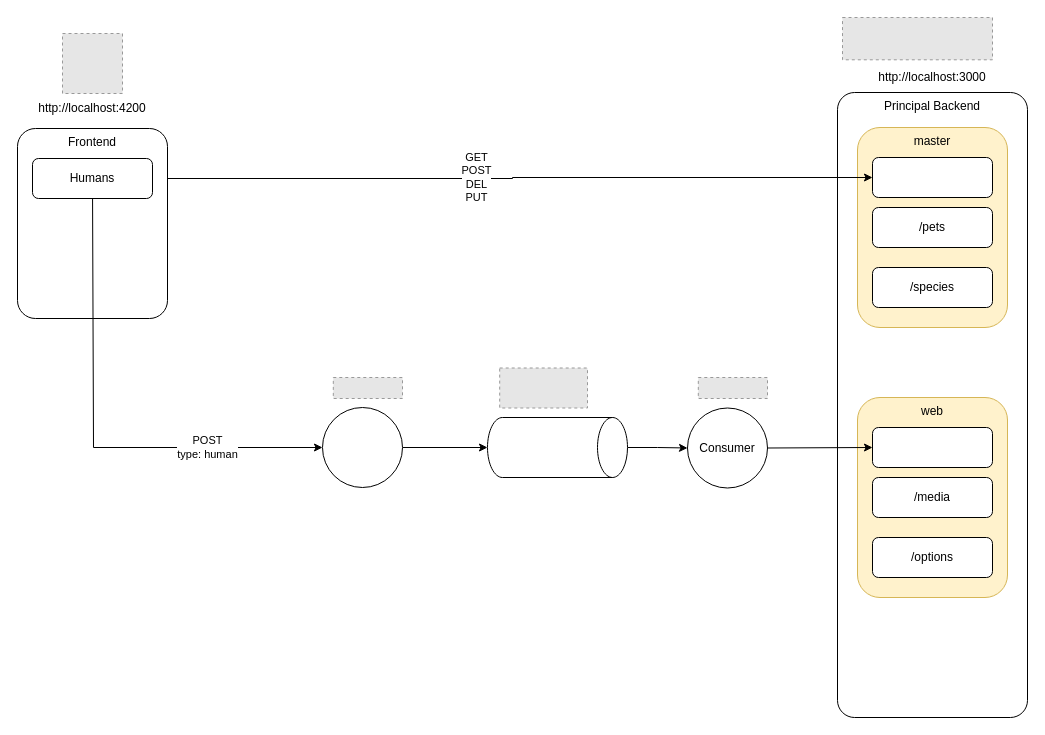
Image size: 1045x735. Some labels were removed from this diagram. Grey dashed boxes stand in for pictures. The centre of each missing label's shape, as x and y in pixels:
"/excel-files" belongs at (x=932, y=447).
"/humans" belongs at (x=932, y=177).
"LoadFile" belongs at (x=362, y=447).
